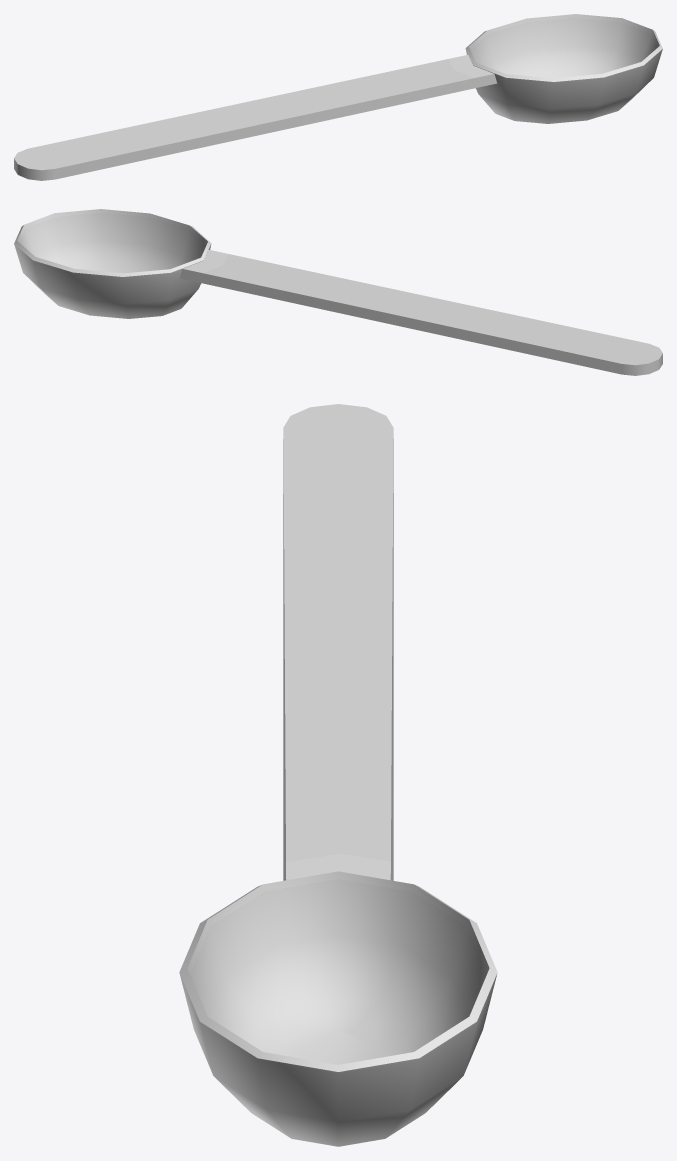
Rendered from Spoon.glb.
3 views of the same model, one above another, from view 1: azimuth 30°, elevation 25°; view 2: azimuth 150°, elevation 25°; view 3: azimuth 270°, elevation 25° (orthographic). The views are drawn at different scales.
Visible parts, largest first — view 1: Spoon; view 2: Spoon; view 3: Spoon.
Part boxes in pixels (x1,y1,x2,y2): Spoon: [14, 14, 662, 180]; Spoon: [14, 209, 662, 375]; Spoon: [179, 404, 497, 1146].
Size of the model in its own units: 0.1739 by 0.0211 by 0.0376.
1 material, 1 textured.
